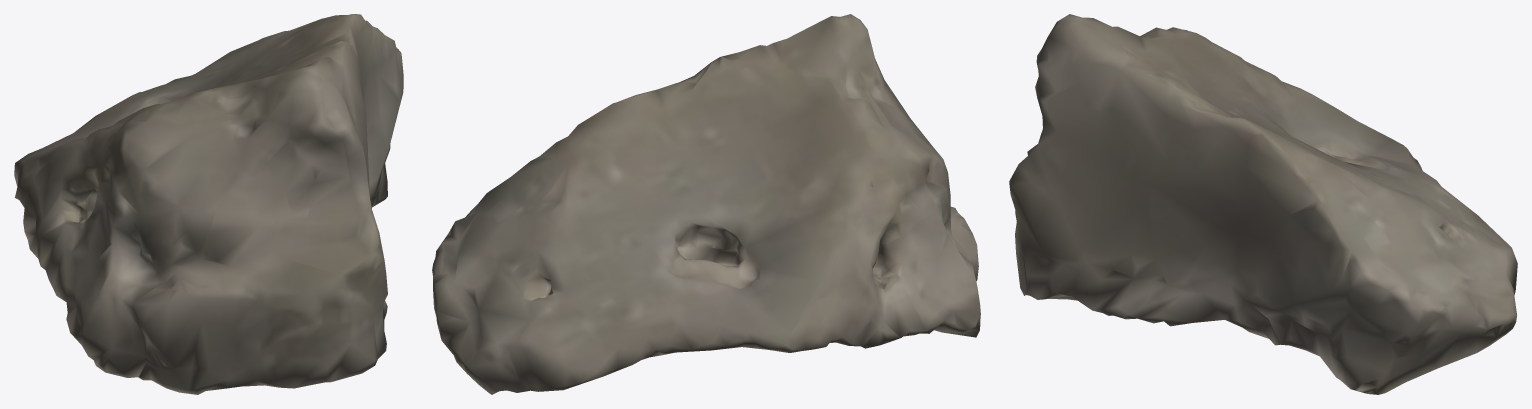
The model's file is moon_rock_06_lod1.glb.
The picture shows the model from 3 angles, left to right: view 1: azimuth 30°, elevation 25°; view 2: azimuth 150°, elevation 25°; view 3: azimuth 270°, elevation 25°; orthographic projection. The views are drawn at different scales.
Parts seen in each view (by area): view 1: moon_rock_06_LOD0; view 2: moon_rock_06_LOD0; view 3: moon_rock_06_LOD0.
Boxes of the visible parts, x1=… form: moon_rock_06_LOD0: x1=14, y1=14, x2=403, y2=394; moon_rock_06_LOD0: x1=432, y1=14, x2=980, y2=394; moon_rock_06_LOD0: x1=1009, y1=14, x2=1517, y2=394.
Bounding box in the file's own units: 0.0857 × 0.055 × 0.0918.
1 material, 1 textured.
